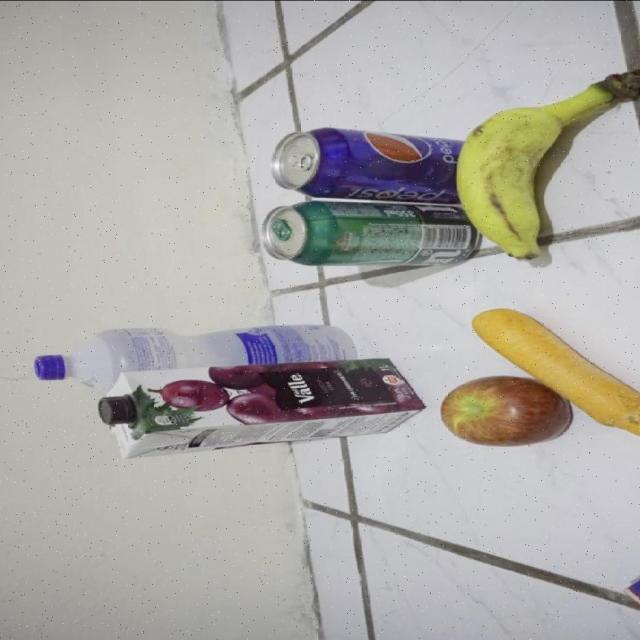AlcoholBottle: (32, 324, 364, 391)
Apple: (440, 376, 574, 446)
Banana: (455, 69, 640, 269)
BeerCan: (260, 199, 476, 266)
Carrot: (471, 308, 640, 440)
Gelatine: (623, 552, 640, 630)
SodaCan: (268, 127, 472, 198)
